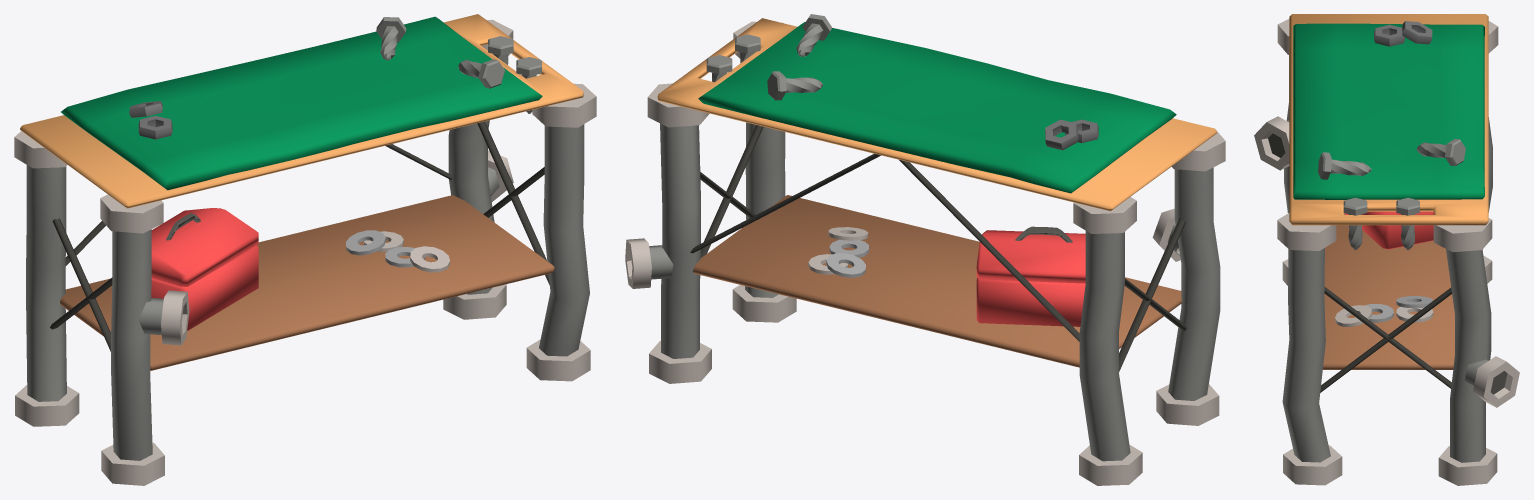
Rendered from working_bench.fbx.
The picture shows the model from 3 angles, left to right: view 1: azimuth 30°, elevation 25°; view 2: azimuth 150°, elevation 25°; view 3: azimuth 270°, elevation 25°; orthographic projection. The views are drawn at different scales.
Visible parts, largest first — view 1: feet, Table, Mat, Toolbox, wire, Nut3, Nail2, Nail1, Nut1; view 2: feet, Table, Mat, Toolbox, wire, Nut3, Nail1, Nail2, Nut2; view 3: Mat, feet, Table, wire, Nut3, Toolbox, Nail2, Nail1, Nail4, Nail3, Nut2, Nut1.
Boxes of the visible parts, x1,y1,x2,y2 form: feet: (14,19,596,485); Table: (20,14,583,370); Mat: (61,16,542,190); Toolbox: (151,208,258,330); wire: (50,121,549,351); Nut3: (346,230,450,272); Nail2: (458,59,504,88); Nail1: (376,17,406,60); Nut1: (138,115,172,139); feet: (625,21,1225,485); Table: (657,18,1217,367); Mat: (698,22,1176,193); Toolbox: (976,226,1085,326); wire: (690,125,1187,371); Nut3: (808,227,869,277); Nail1: (767,71,822,100); Nail2: (796,14,832,56); Nut2: (1045,119,1078,150); Mat: (1293,23,1484,199); feet: (1254,19,1519,485); Table: (1289,14,1488,369); wire: (1320,287,1451,392); Nut3: (1335,296,1433,326); Toolbox: (1344,211,1433,249); Nail2: (1318,152,1371,179); Nail1: (1416,139,1465,166); Nail4: (1343,197,1367,249); Nail3: (1396,197,1419,250); Nut2: (1402,21,1432,44); Nut1: (1374,24,1404,46).
Size of the model in its own units: 187 by 112 by 92.68.
